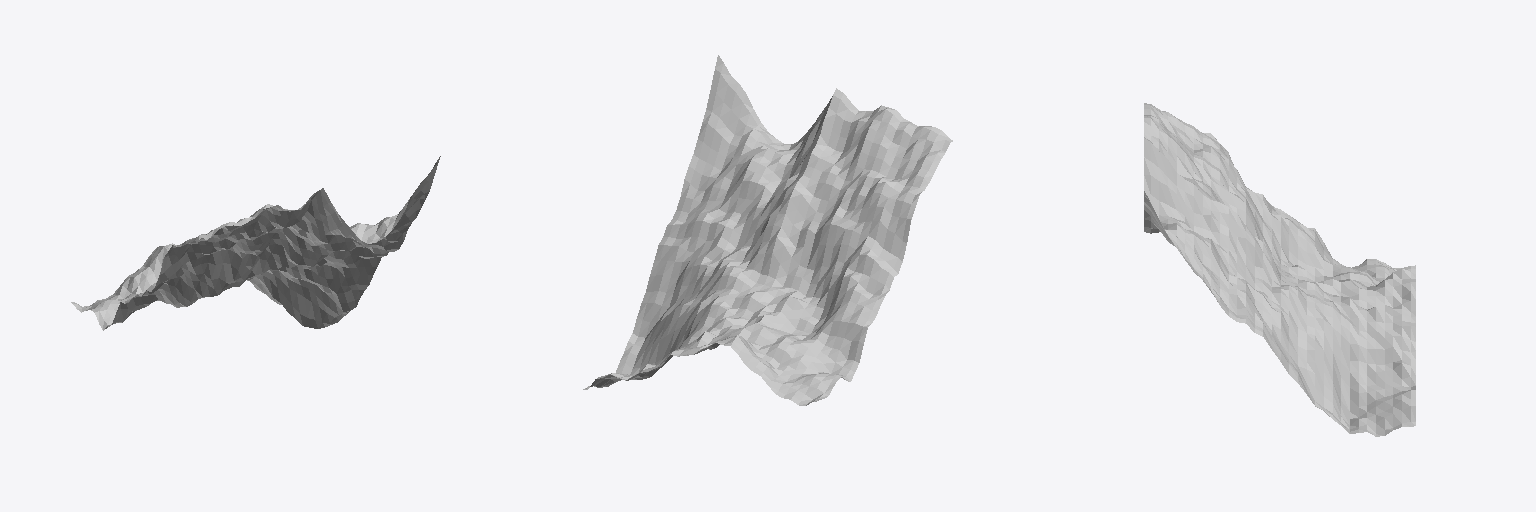
Rendered from terrain_3_3.obj.
3 views of the same model, side by side, from view 1: azimuth 30°, elevation 25°; view 2: azimuth 150°, elevation 25°; view 3: azimuth 270°, elevation 25° (orthographic).
Visible parts, largest first — view 1: terrain_3_3_Plane.038; view 2: terrain_3_3_Plane.038; view 3: terrain_3_3_Plane.038.
Part boxes in pixels (left/top/right/bottom): terrain_3_3_Plane.038: left=71, top=156, right=440, bottom=330; terrain_3_3_Plane.038: left=583, top=55, right=952, bottom=405; terrain_3_3_Plane.038: left=1144, top=103, right=1415, bottom=436.
Bounding box in the file's own units: 32 × 32.01 × 32.